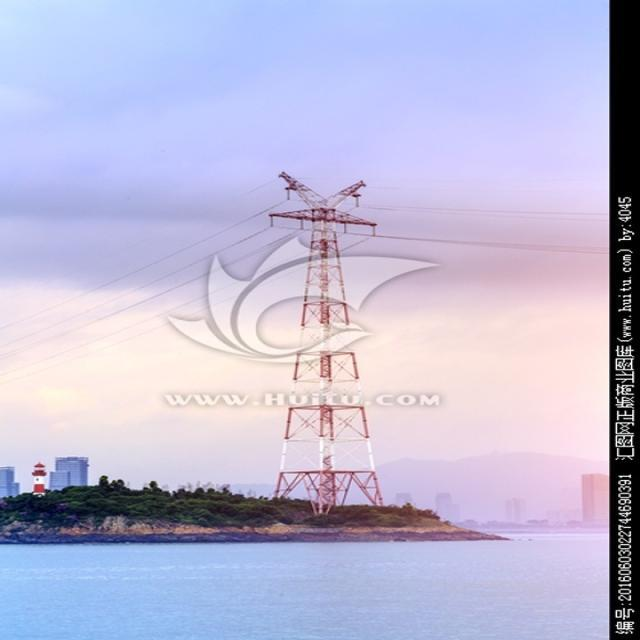non-critical vegetation: (236, 164, 429, 519)
